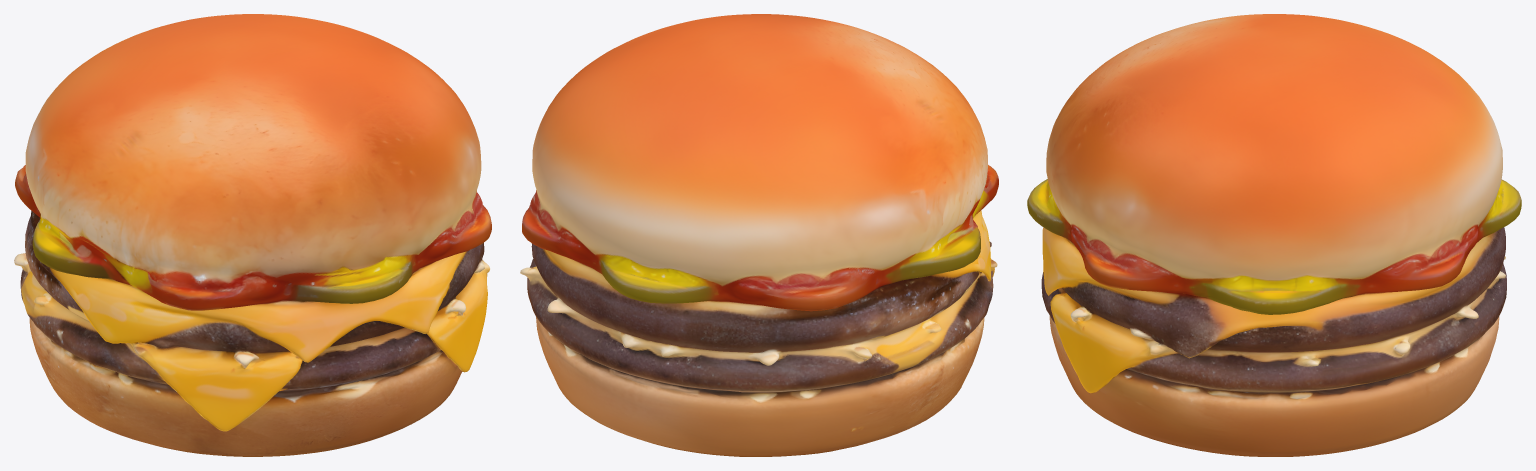
The model's file is mc_double_burger.glb.
3 renders of one model, left to right at view 1: azimuth 30°, elevation 25°; view 2: azimuth 150°, elevation 25°; view 3: azimuth 270°, elevation 25°, orthographic.
Parts seen in each view (by area): view 1: model_0; view 2: model_0; view 3: model_0.
Boxes of the visible parts, <box> form: model_0: <box>14,14,491,456</box>; model_0: <box>520,14,998,456</box>; model_0: <box>1027,14,1521,456</box>.
Bounding box in the file's own units: 1.9 × 1.41 × 1.9.
Materials: 1 (1 with a texture image).
